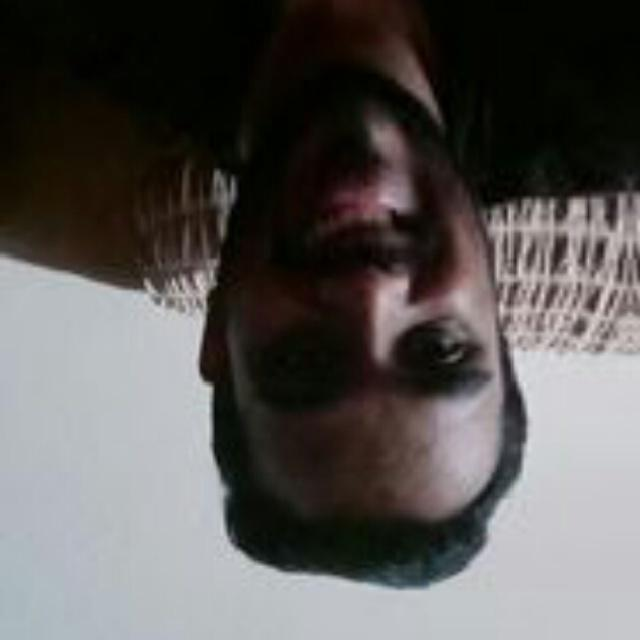Happy: (149, 107, 563, 538)
